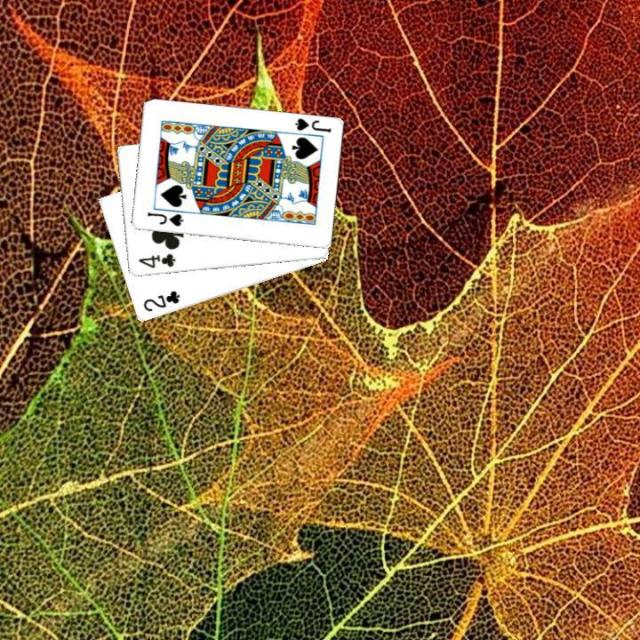2C: (140, 287, 182, 314)
4C: (134, 250, 177, 270)
JS: (143, 209, 185, 228), (290, 115, 332, 134)
